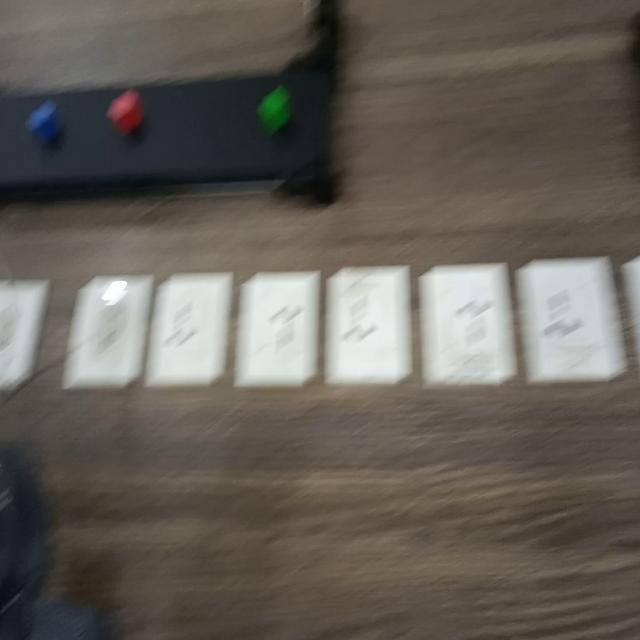cube: (254, 77, 302, 139), (23, 93, 64, 151)
